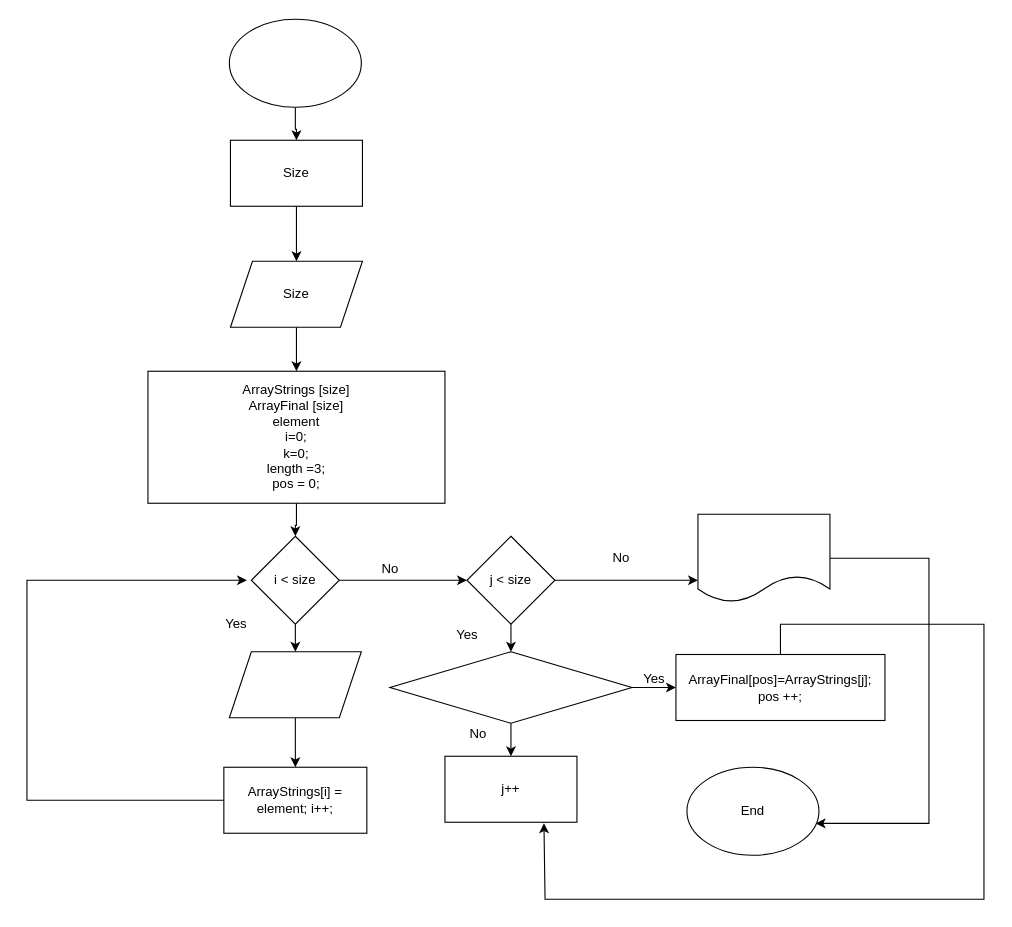
Some shapes in this 1012 by 927 pixel diagram are drawn without their labels. The centre of each missing label's shape, as x and y in pixels:
"ArrayFinal" goes at point 763,557.
"ArrayStrings [j].Length <= length" goes at point 510,687.
"element" goes at point 294,684.
"Start" goes at point 294,62.
